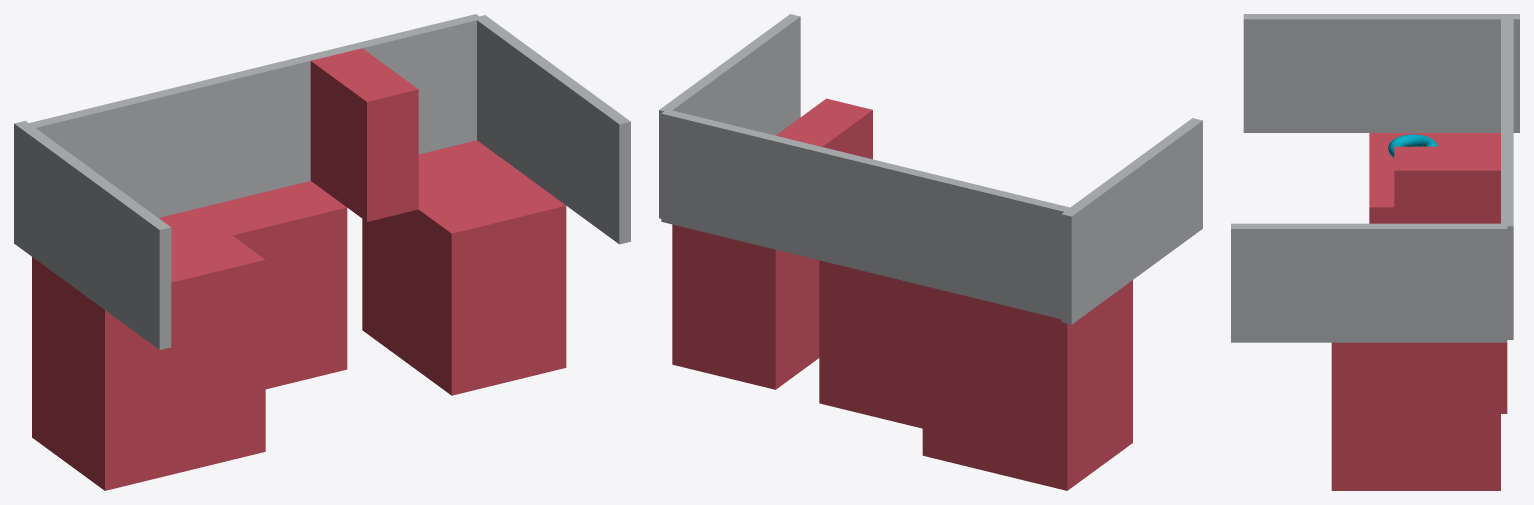
Rendered from touryst.glb.
3 views of the same model, side by side, from view 1: azimuth 30°, elevation 25°; view 2: azimuth 150°, elevation 25°; view 3: azimuth 270°, elevation 25° (orthographic). The views are drawn at different scales.
Parts seen in each view (by area): view 1: Mesh_Mesh_head_geo.001_lambert2SG.001; view 2: Mesh_Mesh_head_geo.001_lambert2SG.001; view 3: Mesh_Mesh_head_geo.001_lambert2SG.001.
Part boxes in pixels (bbox=[...]): Mesh_Mesh_head_geo.001_lambert2SG.001: bbox=[14, 14, 630, 490]; Mesh_Mesh_head_geo.001_lambert2SG.001: bbox=[659, 14, 1202, 490]; Mesh_Mesh_head_geo.001_lambert2SG.001: bbox=[1231, 14, 1519, 490].
Bounding box in the file's own units: 81 × 52 × 46.
